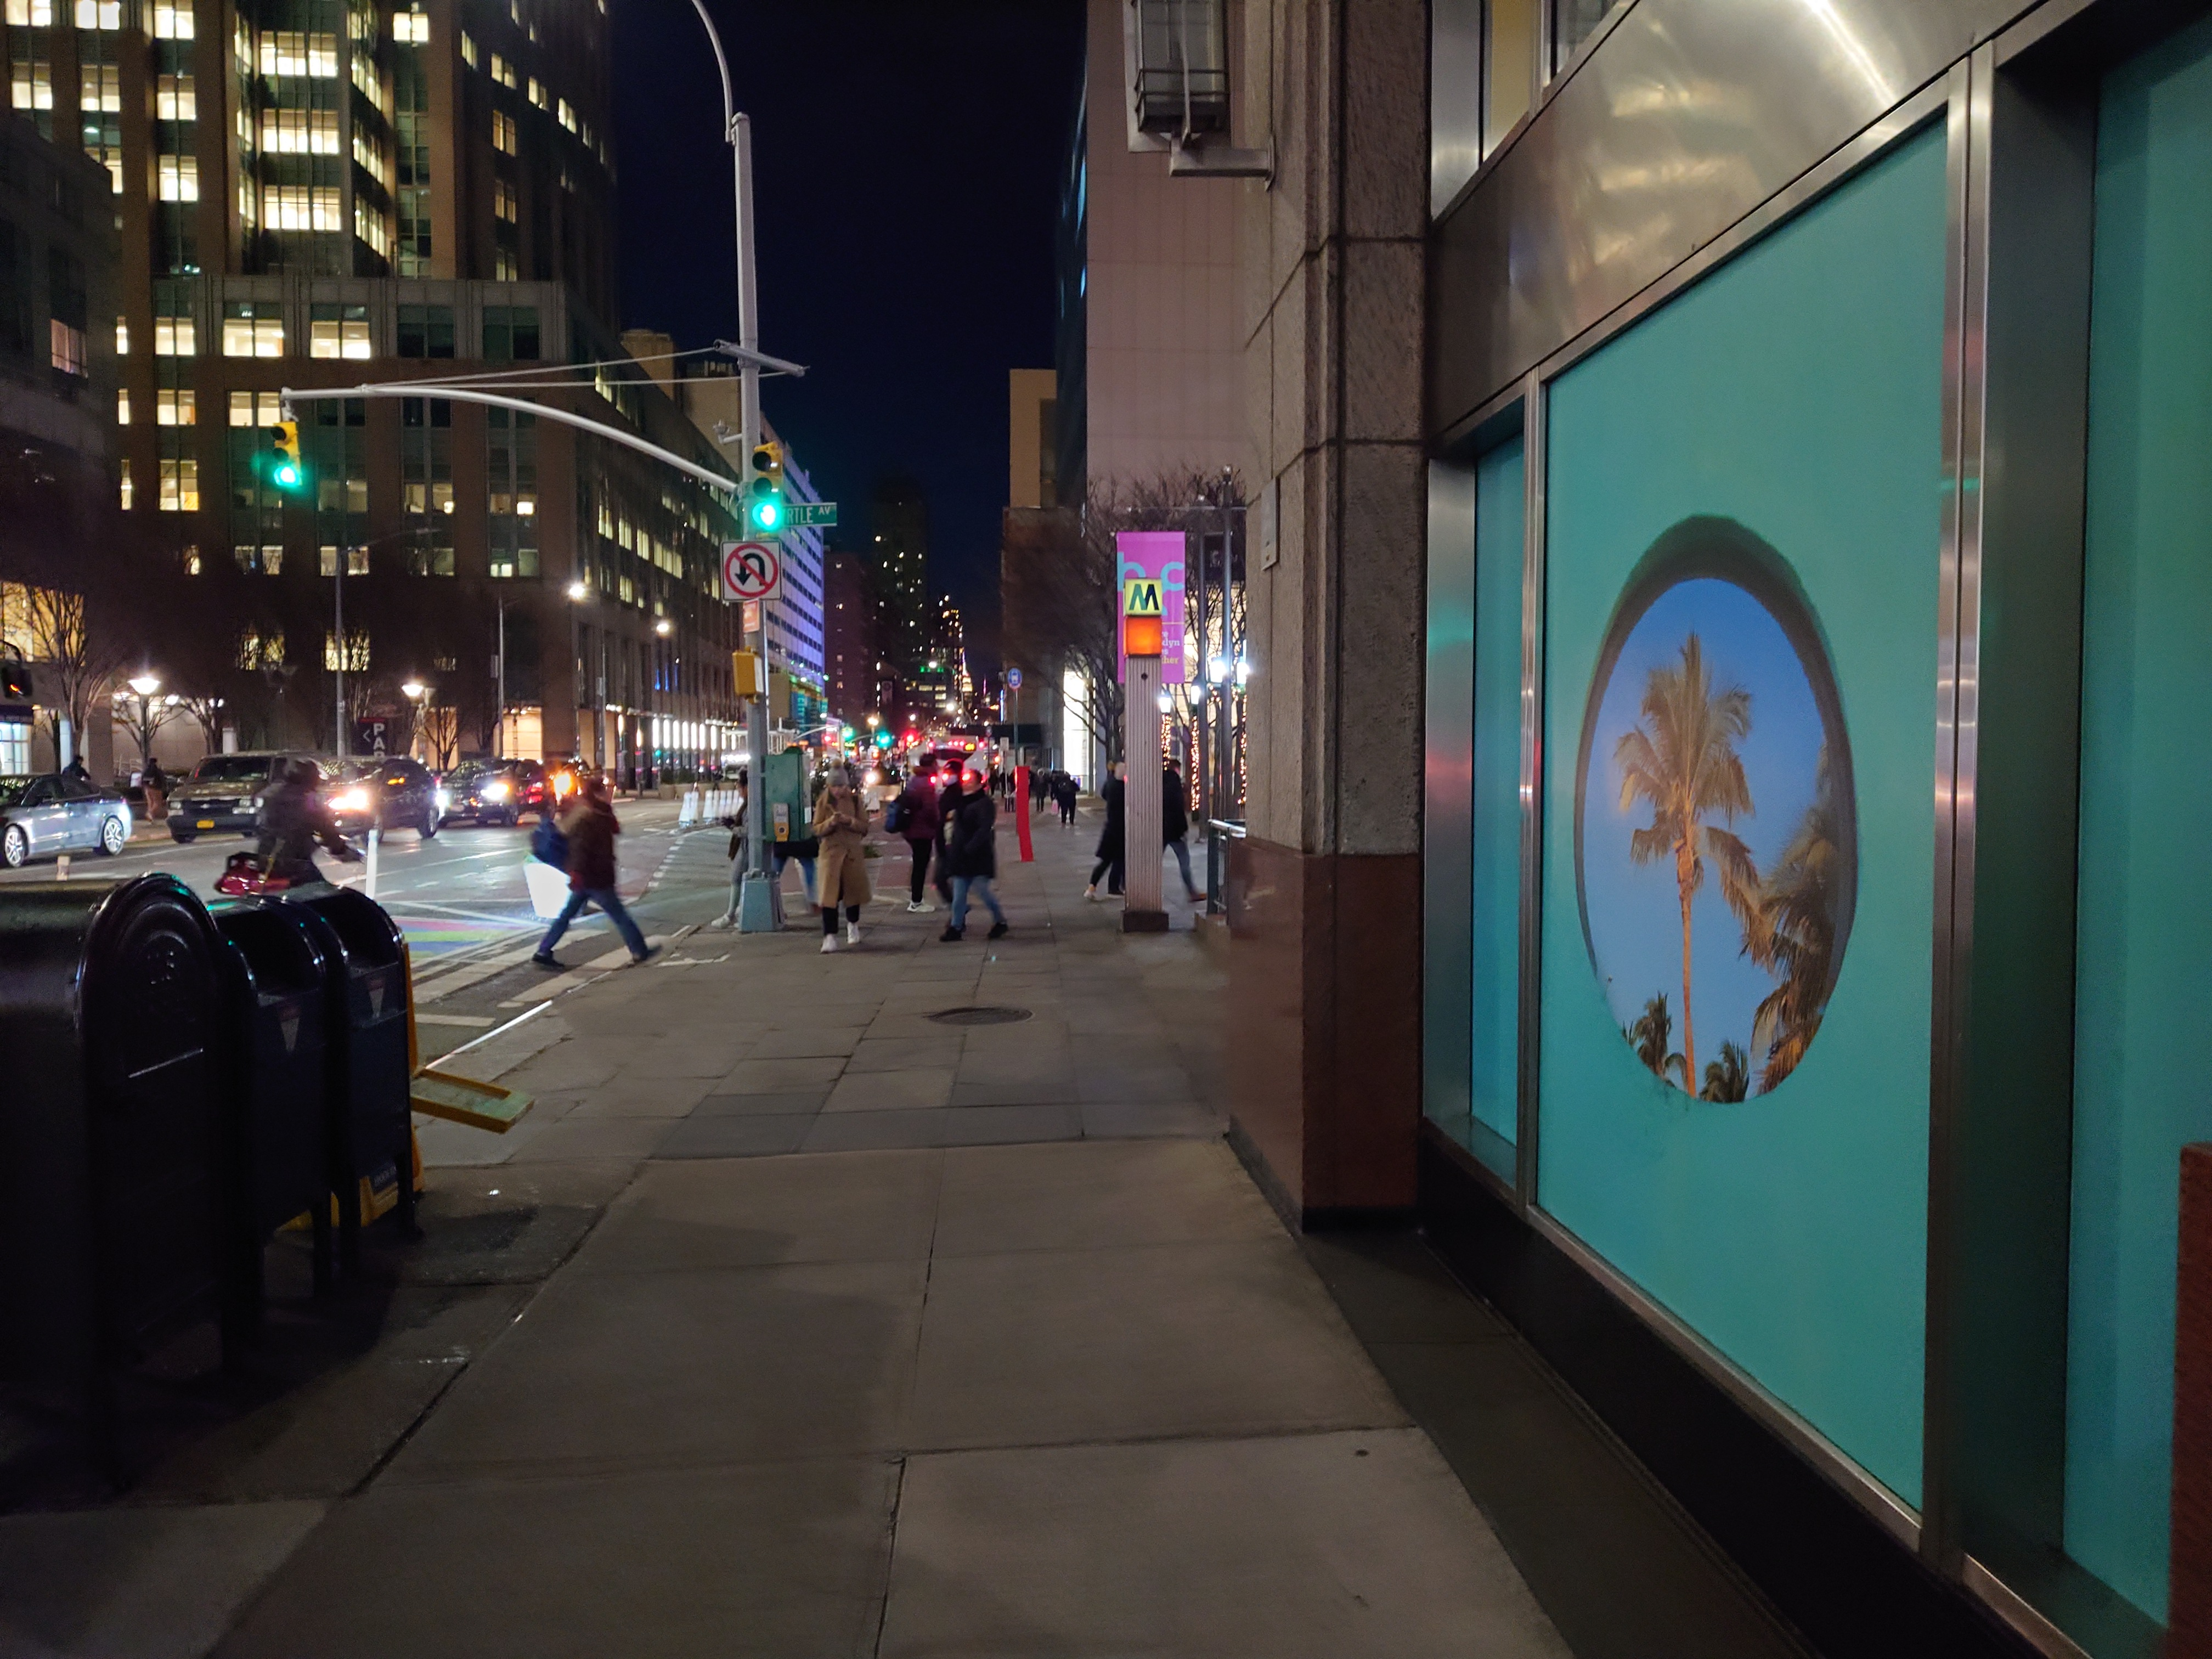car: (1, 775, 129, 870), (323, 757, 439, 843), (437, 756, 554, 828), (171, 751, 259, 838)
person: (531, 780, 663, 969), (249, 757, 365, 891), (946, 770, 1009, 943), (813, 761, 861, 955), (889, 754, 936, 915), (1162, 759, 1206, 903), (713, 770, 749, 930), (1086, 760, 1126, 902), (139, 758, 168, 826), (1054, 771, 1081, 829), (1030, 768, 1049, 812), (999, 770, 1008, 798), (989, 770, 997, 797)
